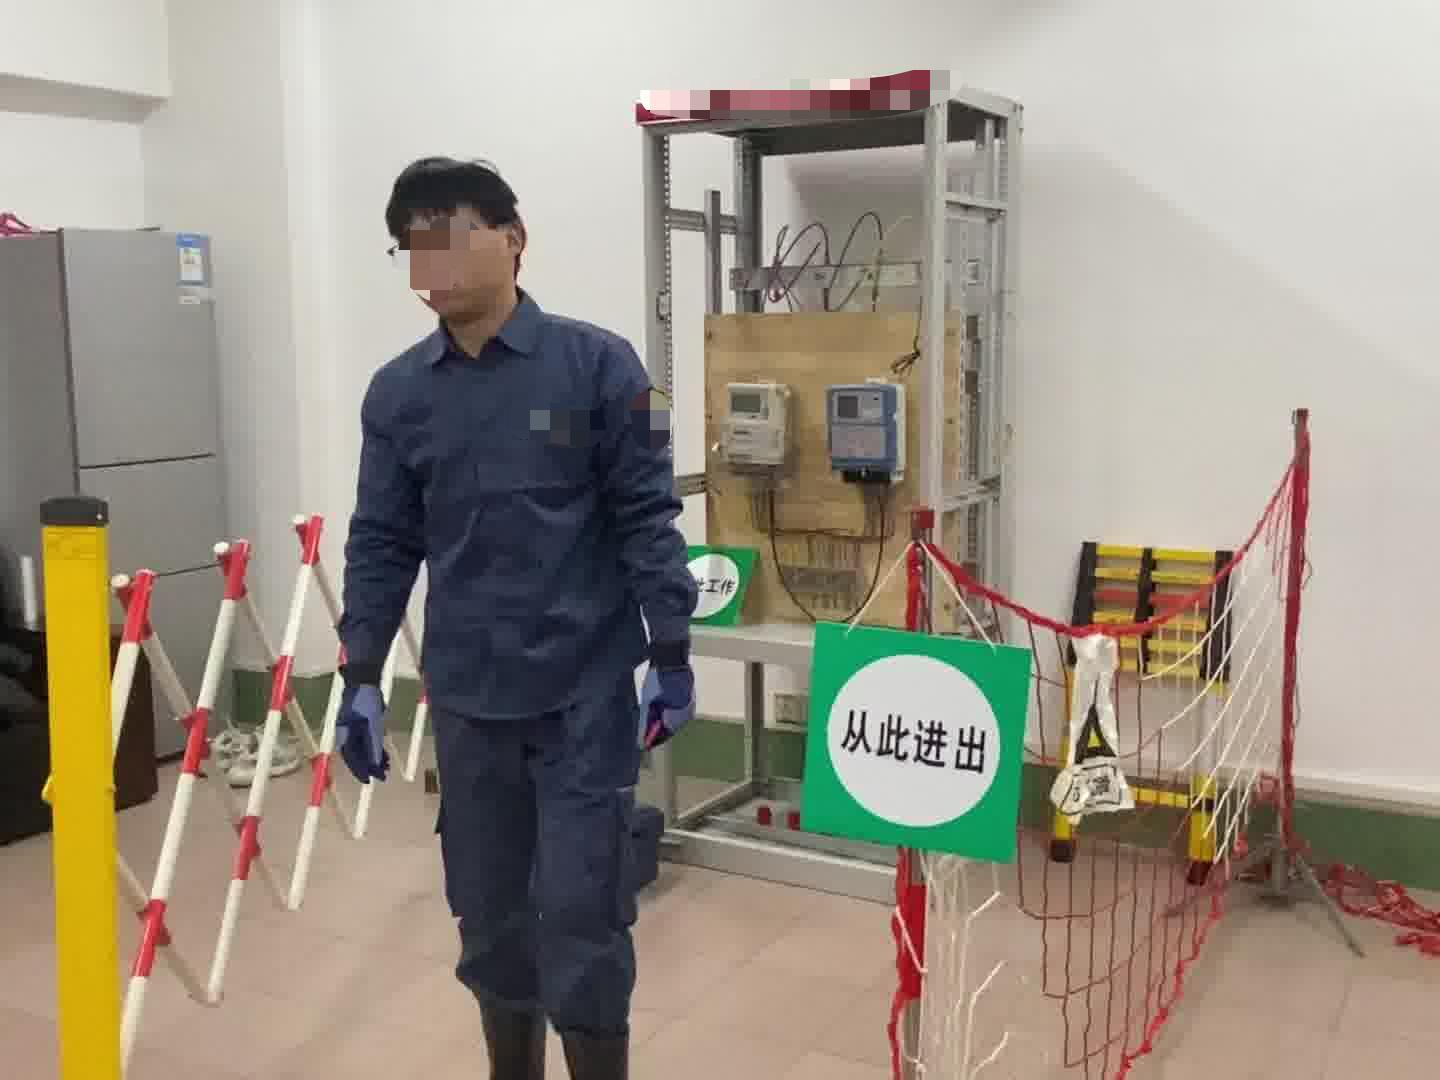noear: (482, 216, 531, 281)
unhalt: (381, 158, 537, 328)
